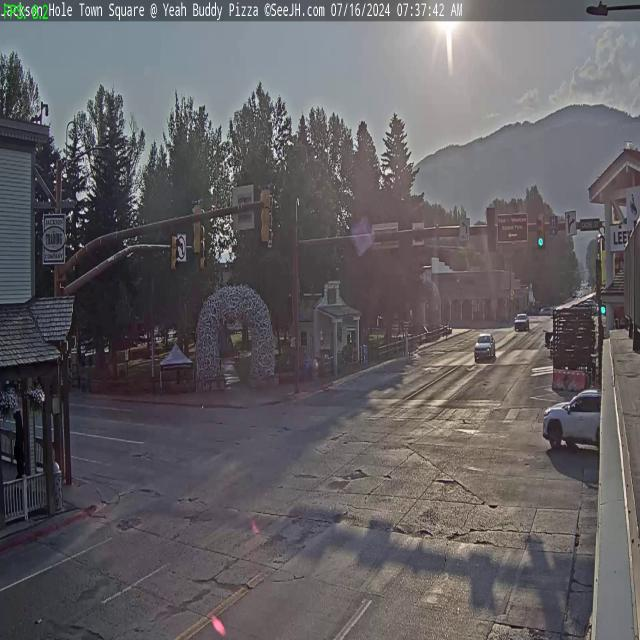sedan: (473, 330, 496, 362), (513, 313, 529, 332)
suv: (541, 388, 602, 453)
traffic light: (260, 184, 272, 245), (191, 199, 203, 257), (486, 207, 496, 255), (170, 235, 179, 272), (537, 214, 546, 248), (200, 238, 208, 272)
